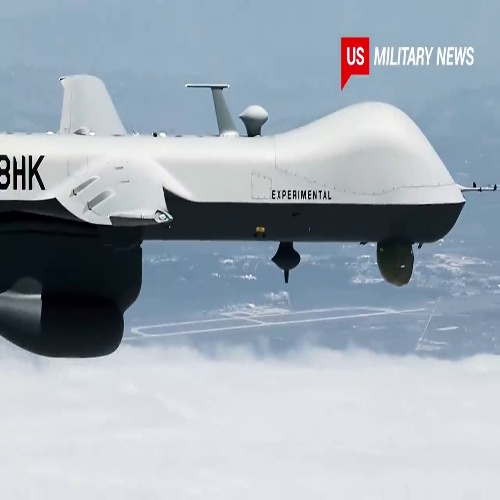uav: (2, 73, 468, 359)
